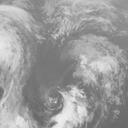cyclone: (40, 85, 76, 116)
